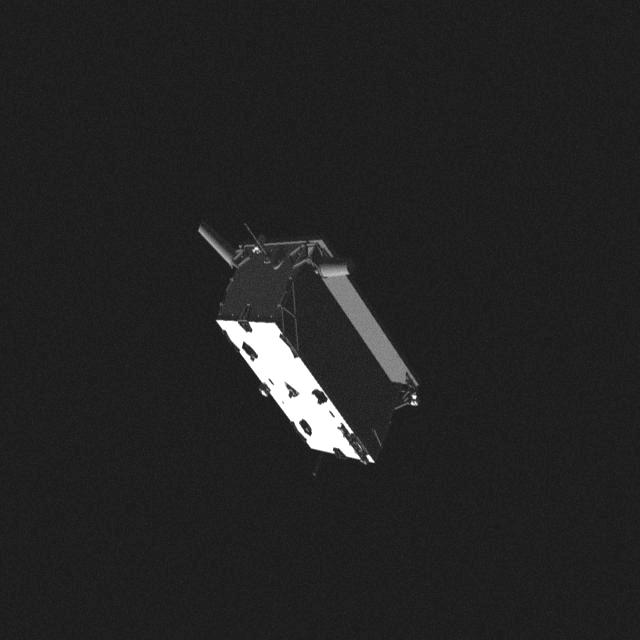satellite: (190, 214, 428, 476)
